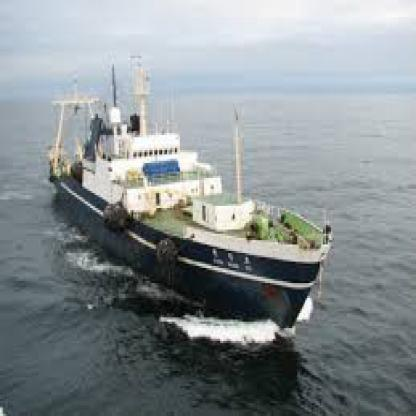fish-b: (37, 47, 344, 339)
